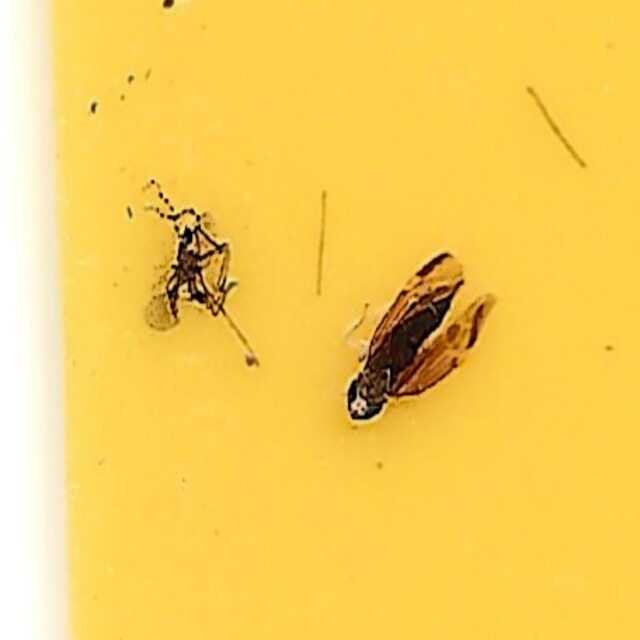Hemiptera: (340, 257, 500, 456)
Nematocera: (140, 184, 250, 371)
